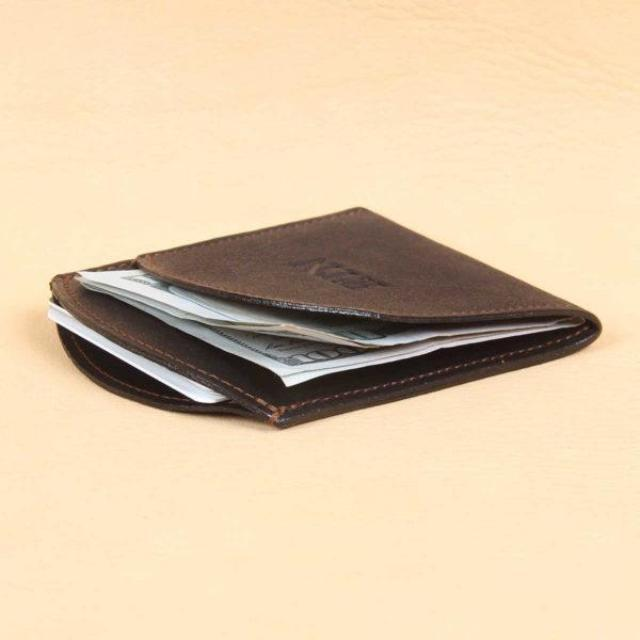Wallet: (51, 208, 601, 428)
